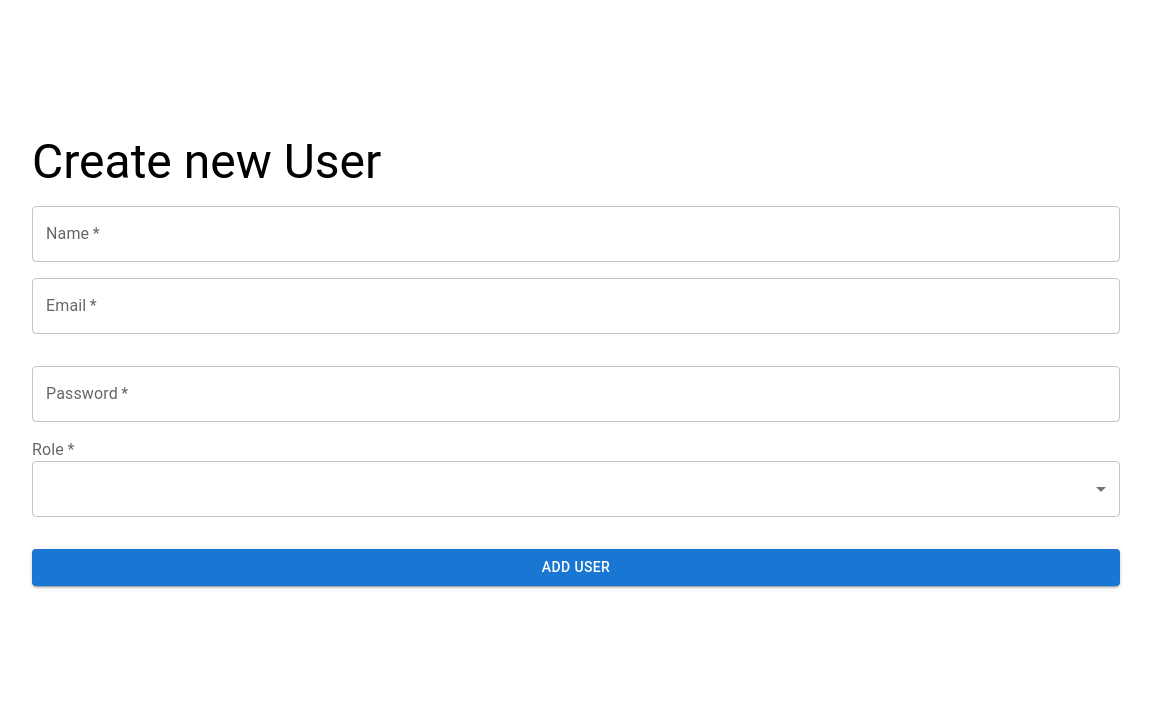
Test: AddUserFormMittel Component › should close error alert
Step 1. Type "john@example.com" into the field labelled "Email *" → (576, 306), box [32,278,1120,334]
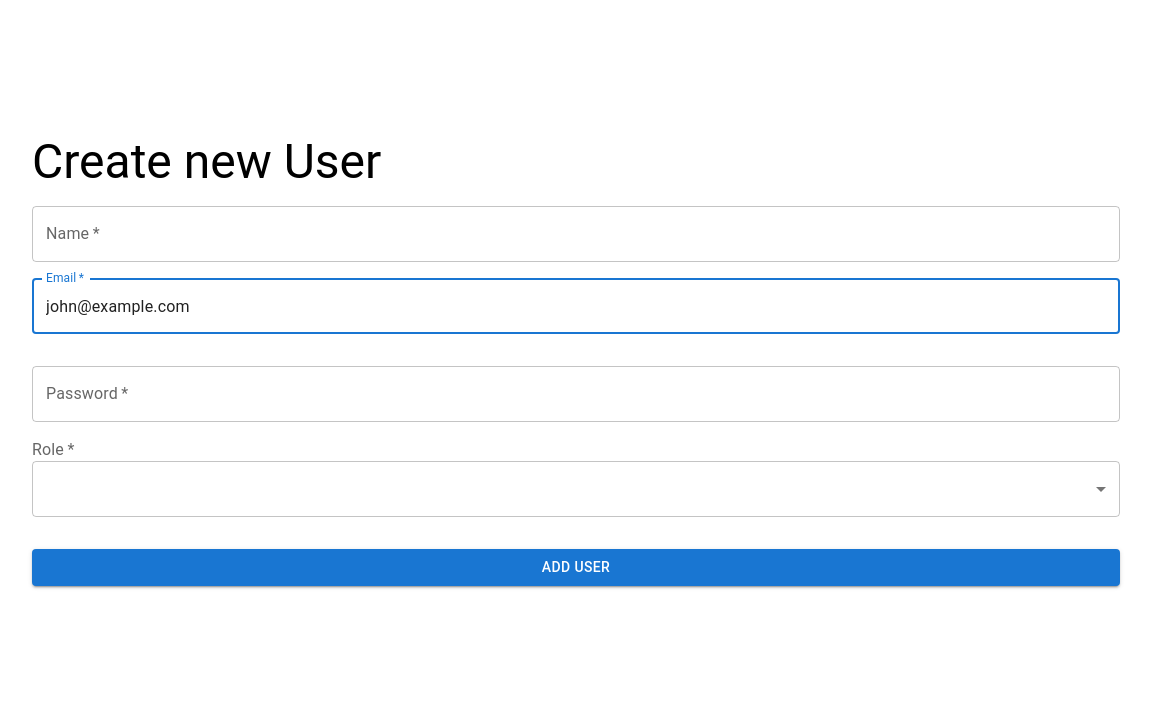
Step 2. Click the button "Add User" → (576, 568), box [32,549,1120,586]
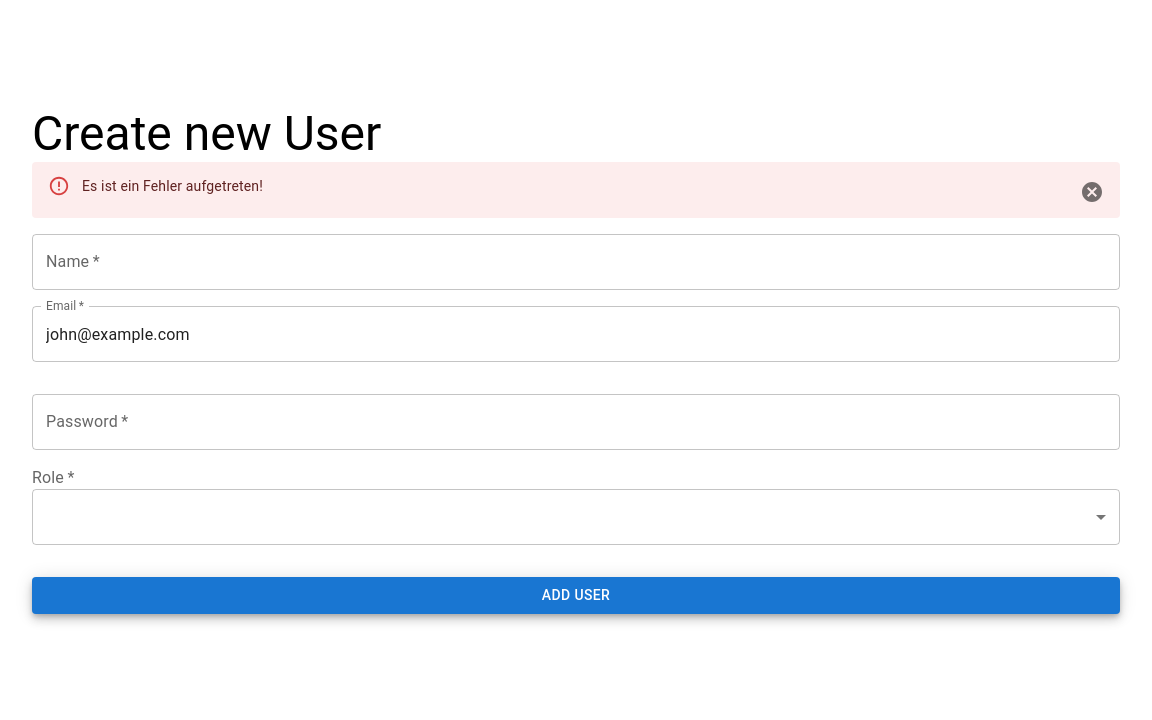
Step 3. Click the button named "close-icon" → (1092, 192), box [1072,172,1112,212]
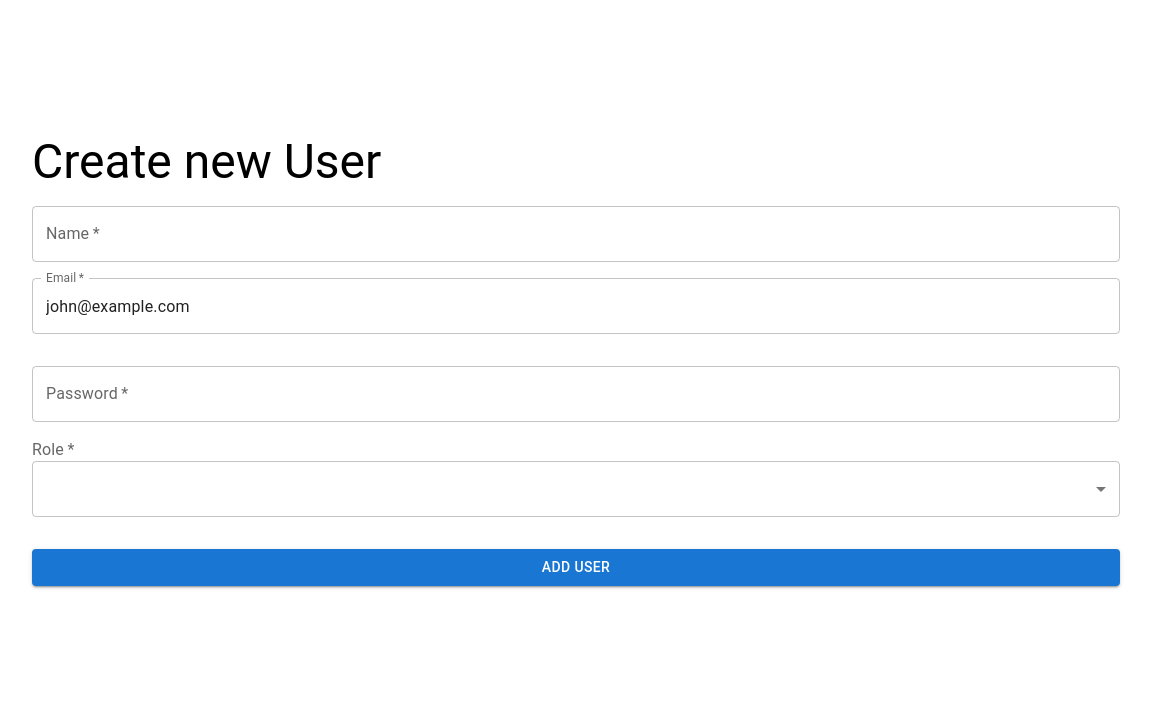
Expected: the text "Es ist ein Fehler aufgetreten!" is gone
